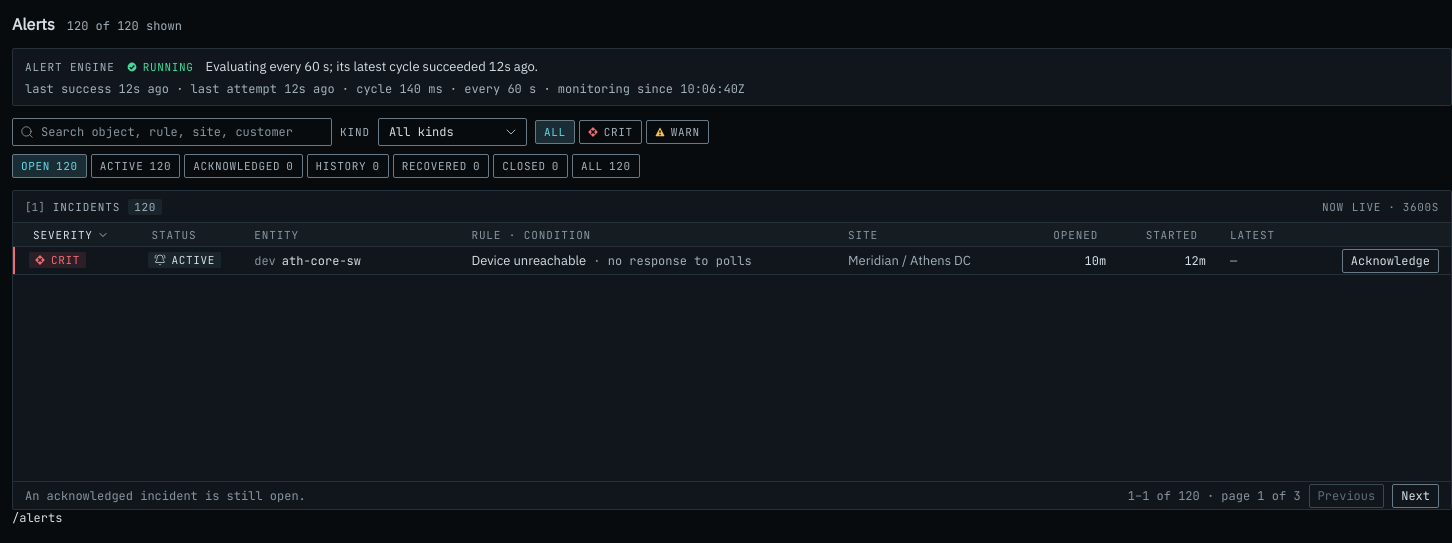
the pages › says where this page sits among the matches, and moves to the next and the previous
This screenshot has width=1452, height=543.
Expected: the navigation bar named "Pages" shows "1–1 of 120 · page 1 of 3", [1128,484,1439,508]
Expected: the button "Previous" is disabled, [1309,484,1384,508]
Click the button "Next".
click(1416, 496)  # box [1392,484,1439,508]
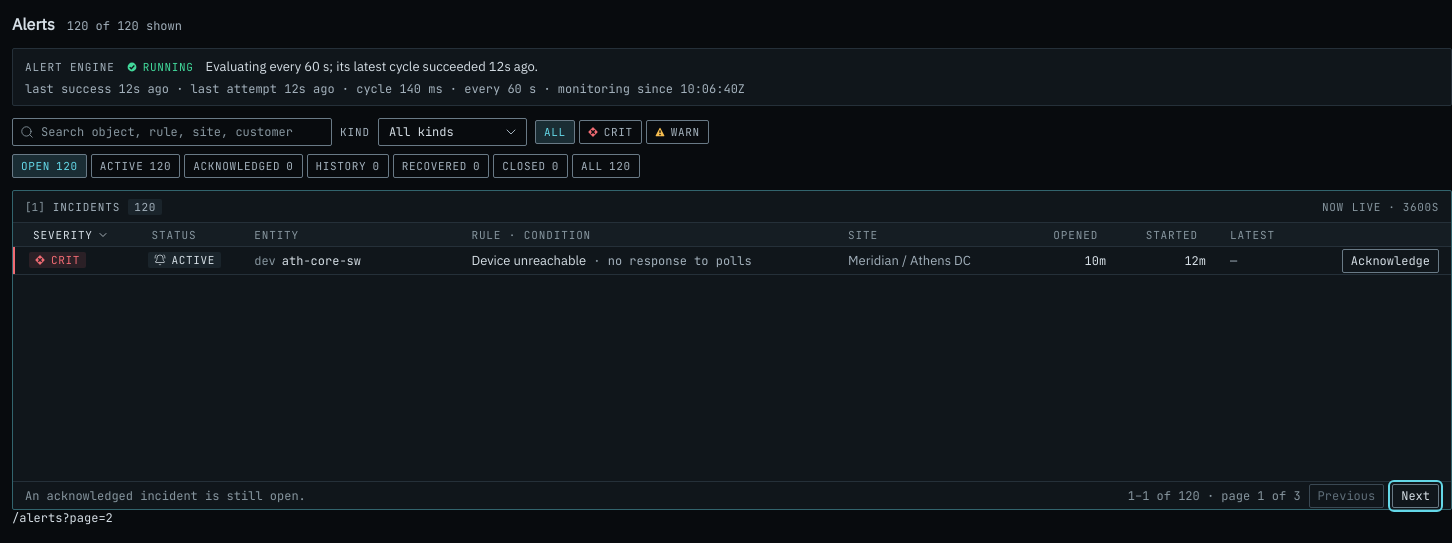
Result: the text with test id "location" shows "page=2" at [12,510,113,526]
